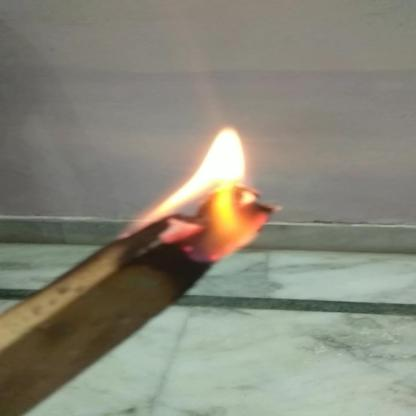fire: (122, 120, 282, 264)
